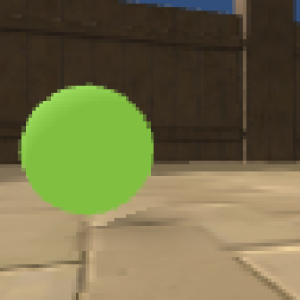goodGoal: (12, 81, 159, 216)
